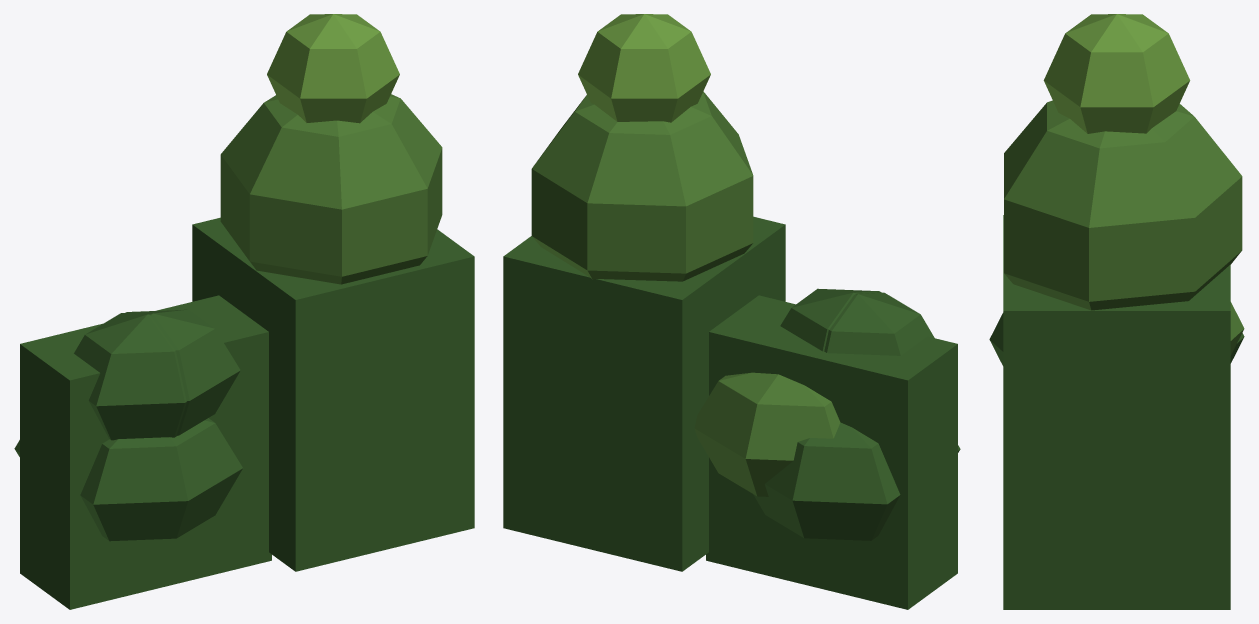
File: boxhedge_end.glb
3 views of the same model, side by side, from view 1: azimuth 30°, elevation 25°; view 2: azimuth 150°, elevation 25°; view 3: azimuth 270°, elevation 25° (orthographic). The views are drawn at different scales.
Parts seen in each view (by area): view 1: fence_boxhedge_end; view 2: fence_boxhedge_end; view 3: fence_boxhedge_end.
Boxes of the visible parts, x1,y1,x2,y2 form: fence_boxhedge_end: (14,14,474,609); fence_boxhedge_end: (503,14,960,609); fence_boxhedge_end: (989,14,1244,609).
Bounding box in the file's own units: 1.33 × 1.68 × 0.696.
